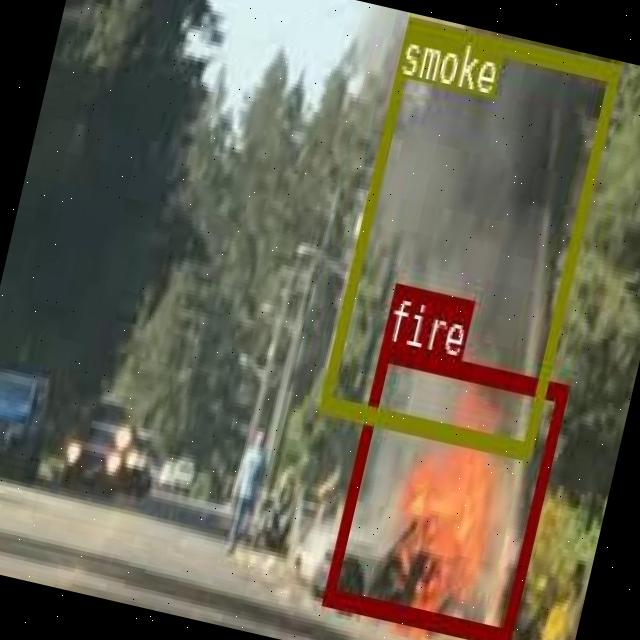fire: (321, 339, 567, 640)
smoke: (317, 15, 618, 458)
